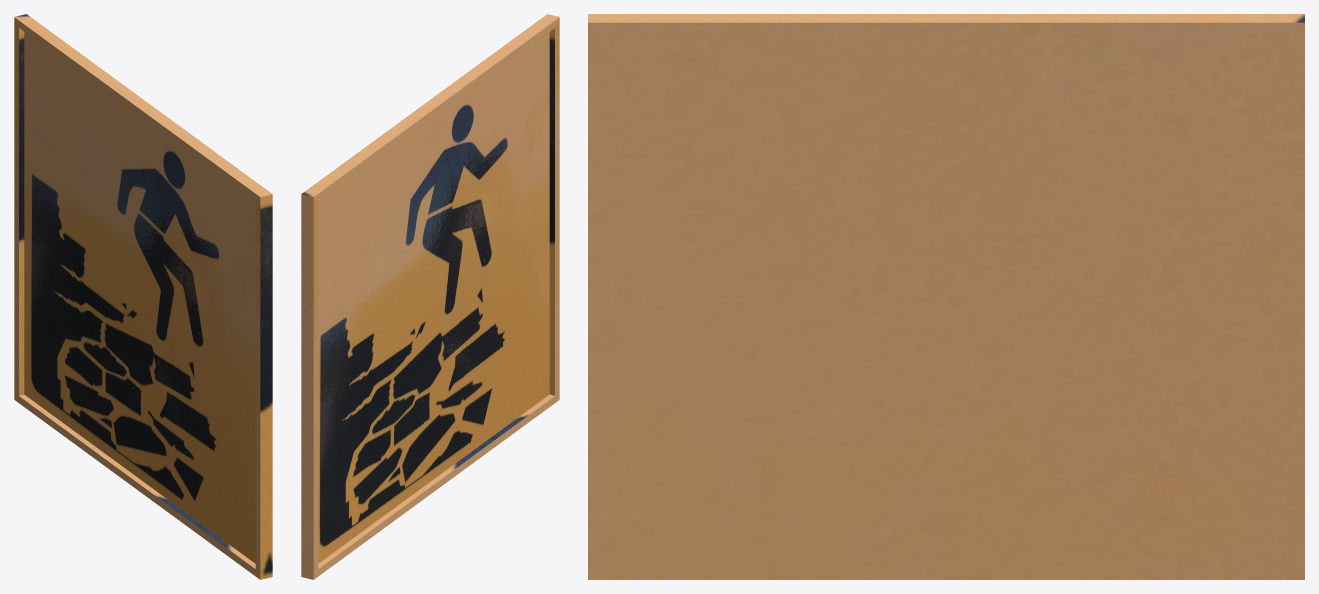
File: crumble_sign.glb
3 renders of one model, left to right at view 1: azimuth 30°, elevation 25°; view 2: azimuth 150°, elevation 25°; view 3: azimuth 270°, elevation 25°, orthographic. The views are drawn at different scales.
Parts seen in each view (by area): view 1: SignCrumble; view 2: SignCrumble; view 3: SignCrumble.
Boxes of the visible parts, box(x1,y1,x2,y2) form: SignCrumble: box(14, 14, 272, 579); SignCrumble: box(301, 14, 559, 579); SignCrumble: box(588, 14, 1304, 579).
Bounding box in the file's own units: 0.0489 × 1.44 × 1.68.
Materials: 1 (1 with a texture image).
